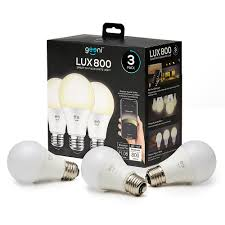bulb: (147, 138, 223, 196), (4, 136, 73, 188), (79, 141, 137, 201)
